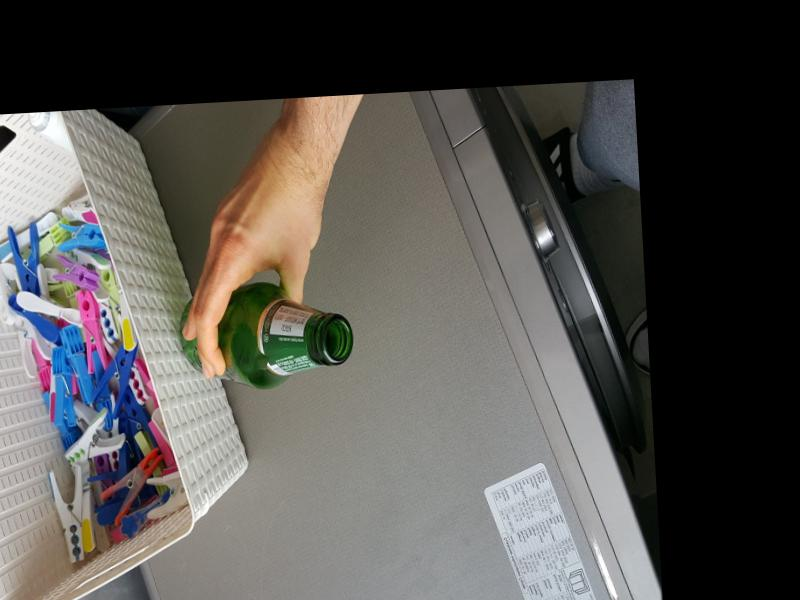Beer: (178, 278, 355, 393)
